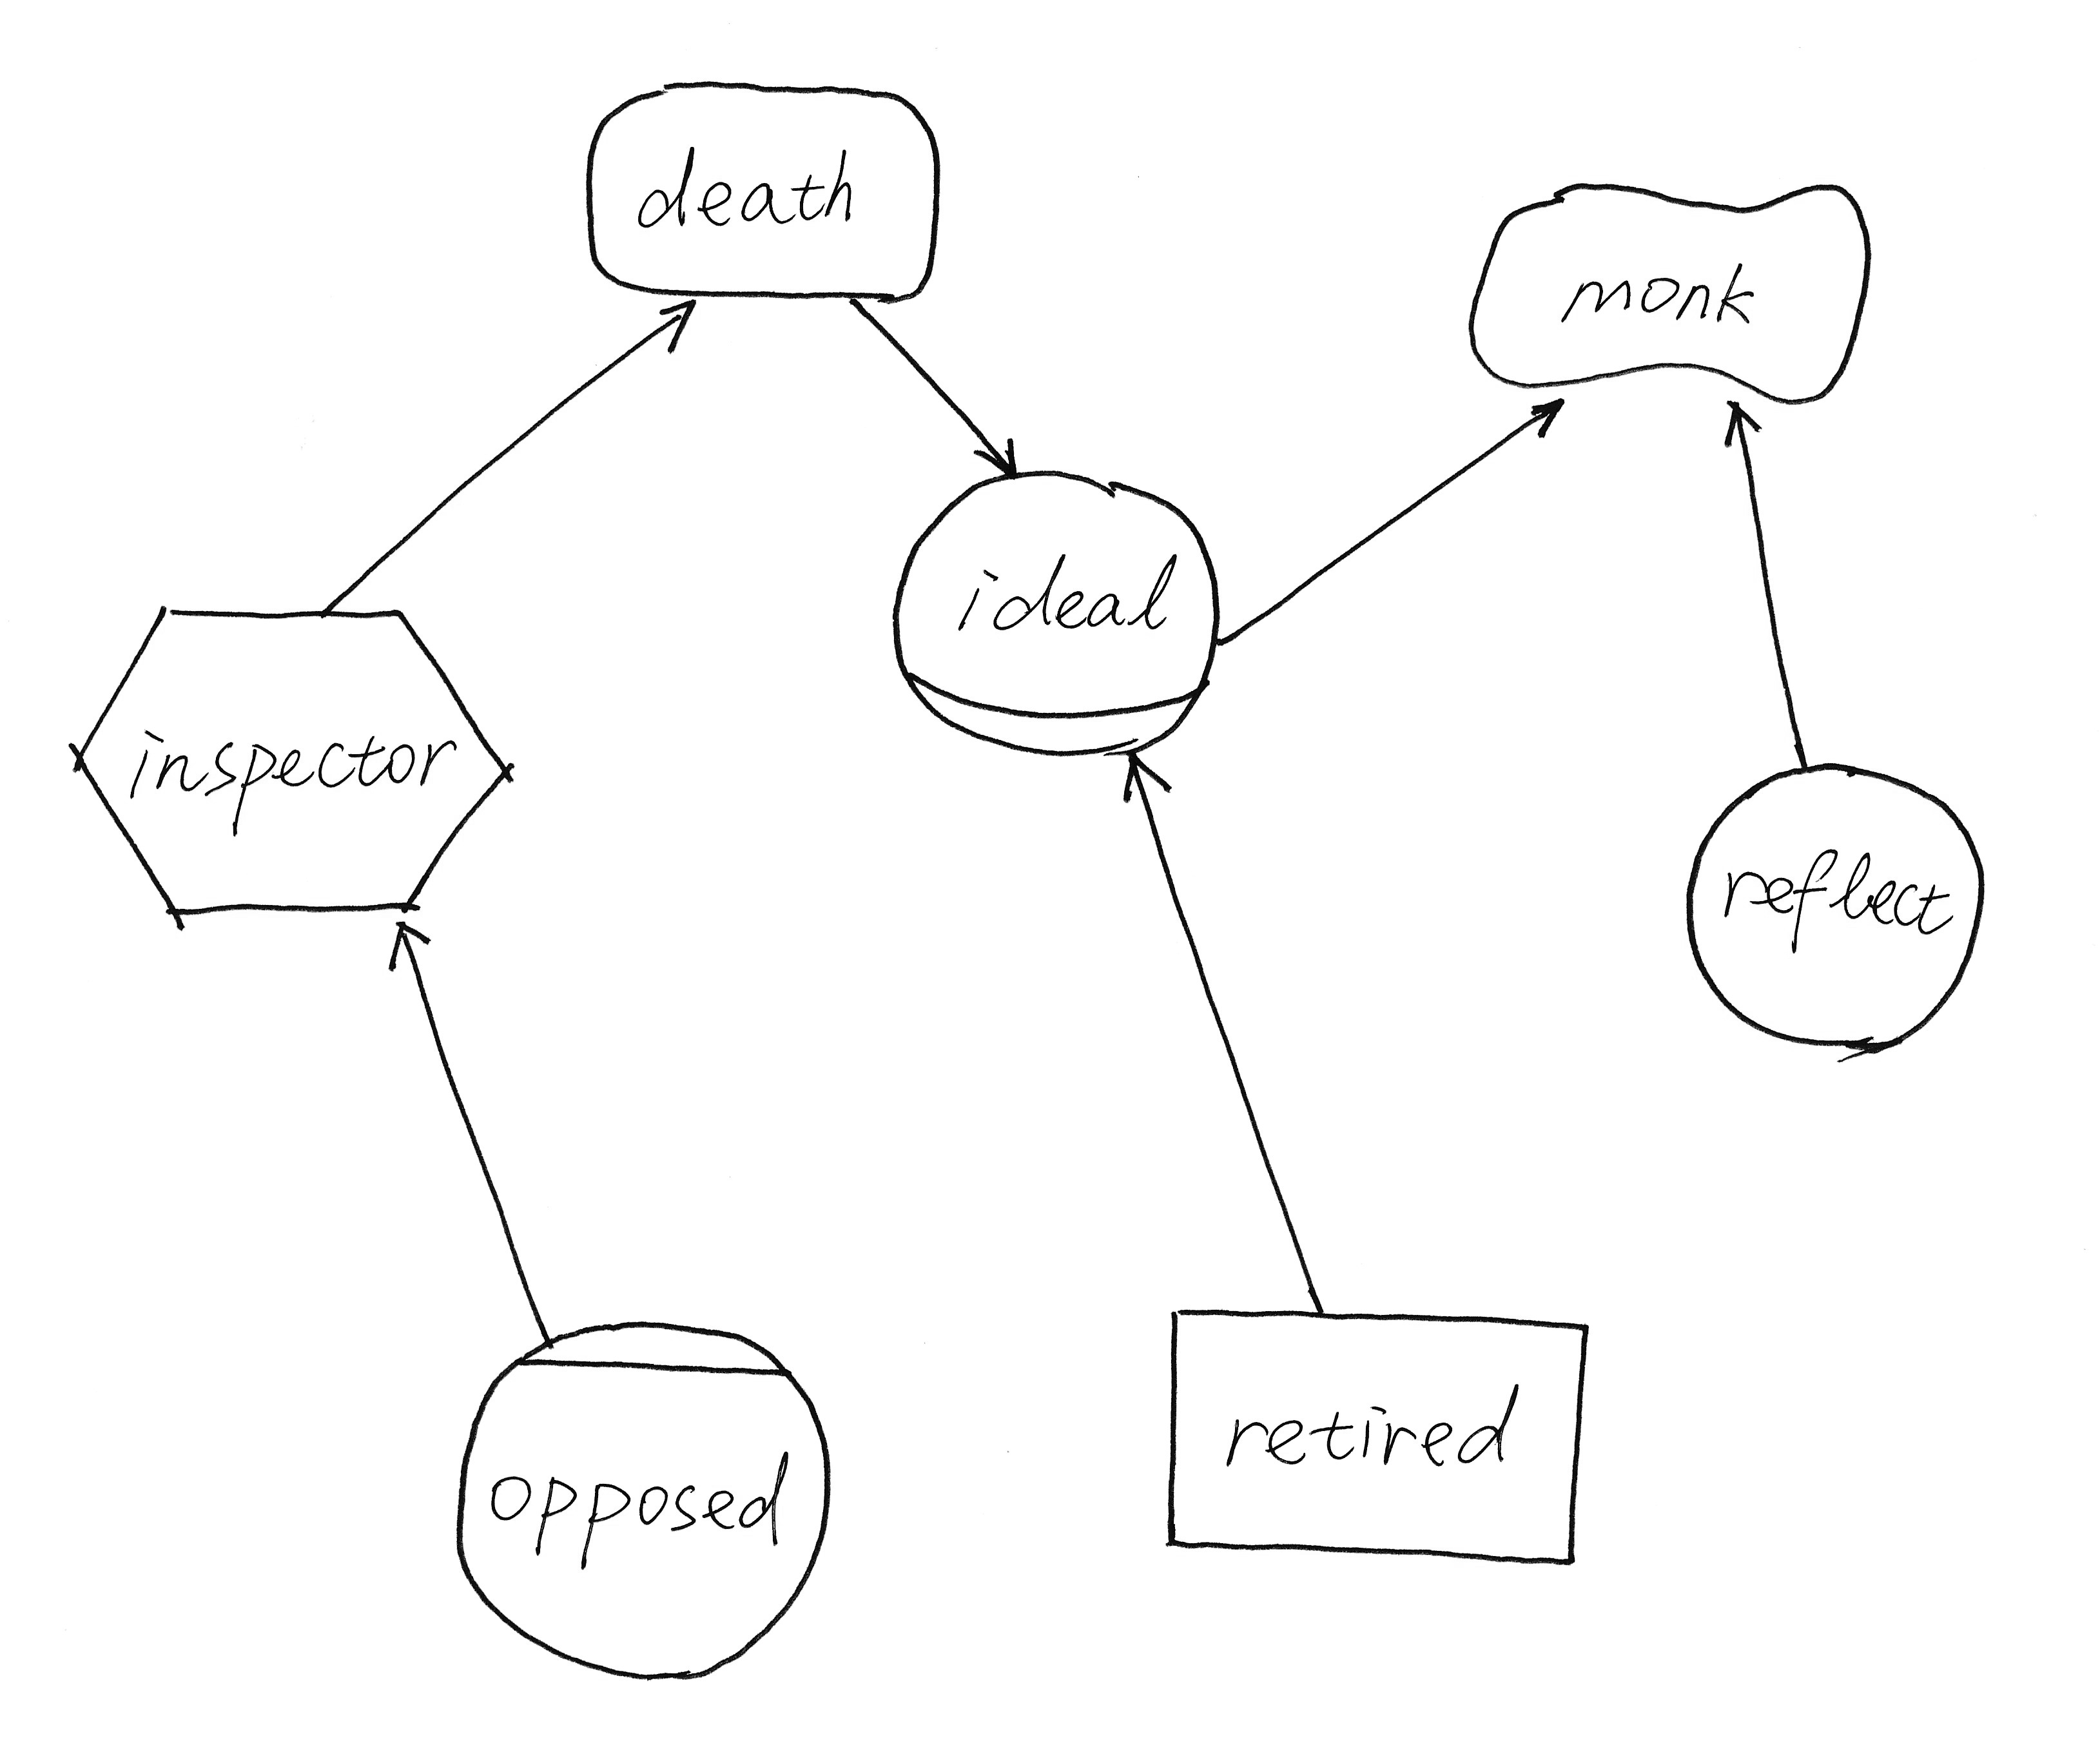actor: (1671, 743, 2002, 1077)
agent: (436, 1302, 849, 1698)
arrow: (645, 281, 717, 377), (1101, 736, 1181, 817), (1502, 382, 1580, 457), (1701, 387, 1777, 454), (375, 909, 443, 982), (961, 424, 1033, 492)
goal: (565, 58, 956, 326)
quality: (1442, 154, 1887, 419)
resource: (1141, 1286, 1608, 1595)
role: (872, 448, 1235, 776)
task: (47, 579, 532, 944)
